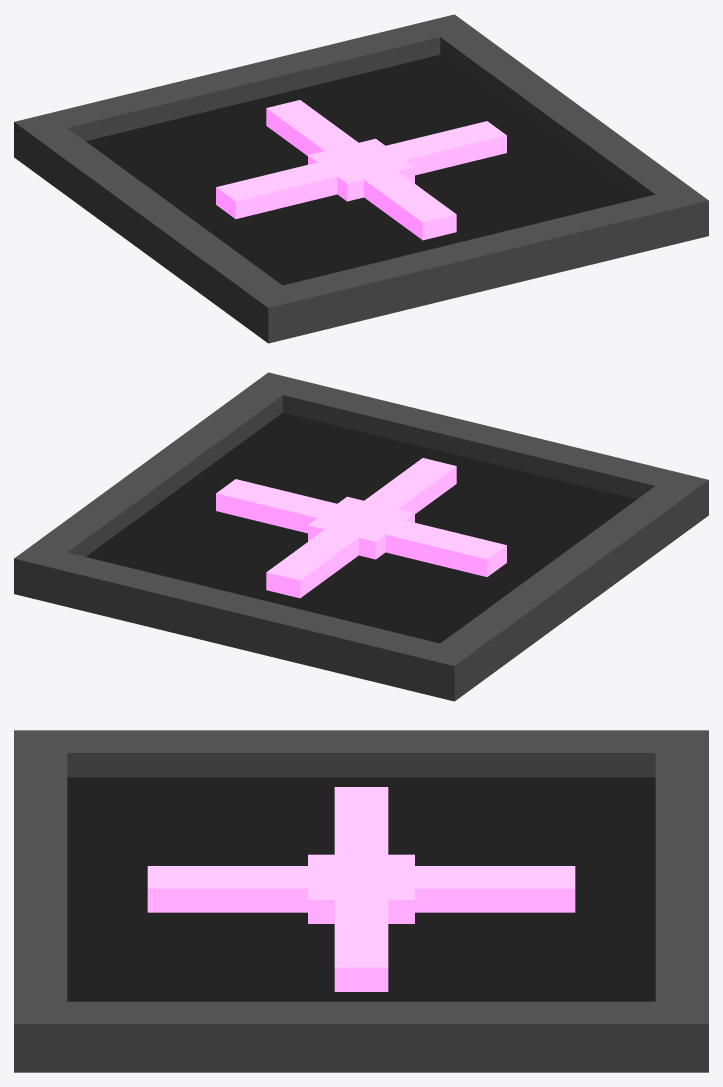
Rendered from trap_LARGE_DOT_VIOLET.glb.
3 views of the same model, one above another, from view 1: azimuth 30°, elevation 25°; view 2: azimuth 150°, elevation 25°; view 3: azimuth 270°, elevation 25° (orthographic). The views are drawn at different scales.
Visible parts, largest first — view 1: item_TRAP_LARGE_DOT_VIOLET; view 2: item_TRAP_LARGE_DOT_VIOLET; view 3: item_TRAP_LARGE_DOT_VIOLET.
Part boxes in pixels (x1=…): item_TRAP_LARGE_DOT_VIOLET: x1=14, y1=14, x2=708, y2=343; item_TRAP_LARGE_DOT_VIOLET: x1=14, y1=372, x2=708, y2=701; item_TRAP_LARGE_DOT_VIOLET: x1=14, y1=730, x2=708, y2=1072.
Bounding box in the file's own units: 0.5909 × 0.0455 × 0.5909.
1 material, 1 textured.
